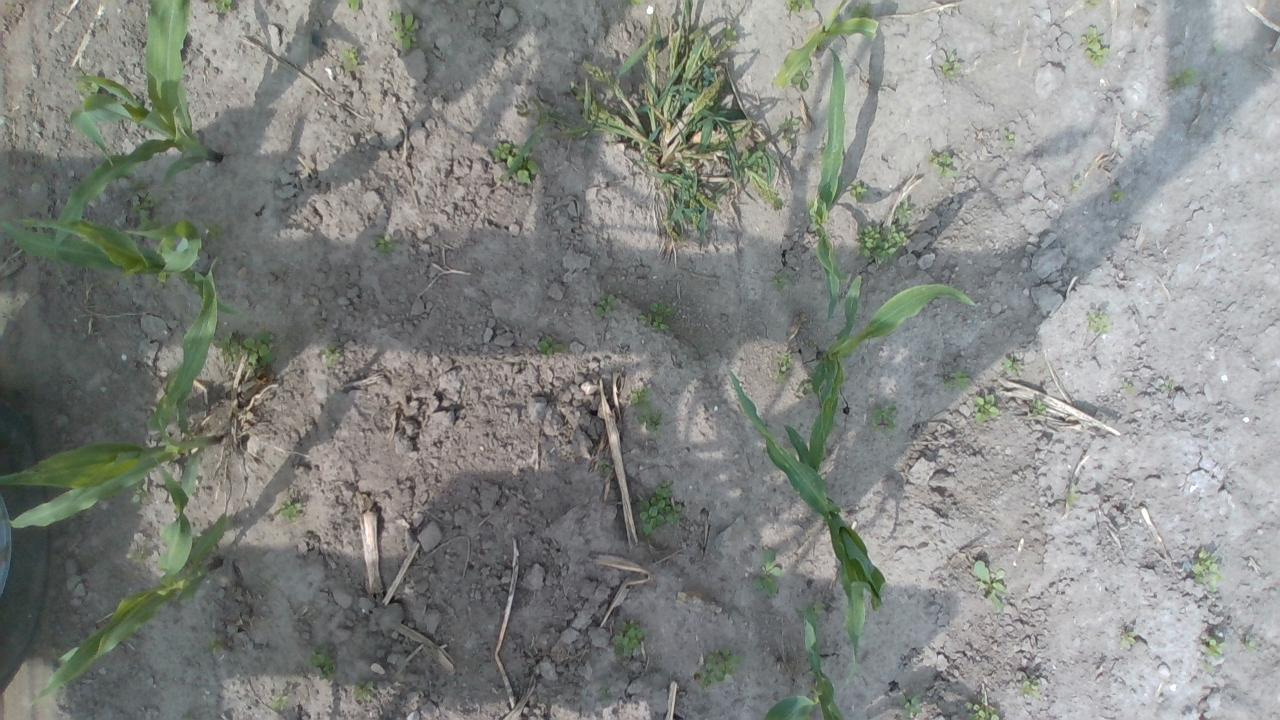Maize: (0, 260, 226, 526), (717, 359, 887, 682), (44, 0, 222, 290), (31, 451, 233, 705), (808, 273, 981, 466), (0, 212, 244, 317), (754, 602, 846, 720), (808, 41, 846, 320), (778, 0, 878, 88)
Weeds: (500, 0, 796, 266), (638, 478, 682, 537), (853, 224, 908, 267), (492, 141, 540, 184), (695, 648, 742, 688), (972, 560, 1008, 612), (629, 386, 664, 437), (387, 7, 422, 52), (751, 548, 782, 596), (612, 619, 648, 660), (304, 641, 339, 682), (1190, 546, 1222, 590), (131, 194, 168, 230), (1080, 26, 1110, 70), (242, 332, 276, 370), (636, 299, 674, 332), (213, 332, 242, 367), (790, 57, 814, 94), (928, 150, 958, 179), (871, 402, 898, 434), (973, 394, 1001, 423), (963, 699, 1000, 720), (770, 352, 794, 384), (794, 601, 824, 626), (373, 234, 401, 260), (1166, 68, 1202, 88), (202, 218, 230, 243), (73, 72, 99, 98), (940, 52, 964, 80), (900, 692, 924, 720), (779, 115, 800, 146), (942, 369, 972, 390), (278, 496, 302, 522), (1086, 310, 1112, 334), (128, 538, 152, 563), (536, 336, 566, 356), (594, 293, 618, 316), (321, 343, 342, 368), (849, 180, 870, 204), (1020, 679, 1044, 700), (340, 46, 360, 71), (894, 200, 913, 225), (1204, 634, 1222, 659), (269, 692, 291, 712), (132, 481, 150, 505), (850, 2, 874, 20), (353, 679, 372, 701), (772, 272, 792, 292), (782, 0, 814, 12), (1000, 357, 1020, 376), (795, 379, 816, 397), (206, 636, 225, 653), (210, 0, 233, 14), (128, 179, 150, 193), (1030, 397, 1046, 416), (1066, 485, 1079, 507), (1242, 634, 1257, 652), (1002, 129, 1016, 146), (1122, 628, 1136, 645), (1111, 188, 1126, 203), (600, 458, 613, 475), (600, 682, 612, 700), (1068, 179, 1082, 194), (180, 558, 193, 574), (1082, 0, 1102, 10), (191, 530, 203, 545), (344, 0, 360, 11), (1122, 381, 1136, 393), (106, 419, 118, 432), (806, 197, 816, 210), (1162, 380, 1172, 391), (181, 713, 196, 720), (804, 338, 814, 346), (200, 403, 207, 408)
